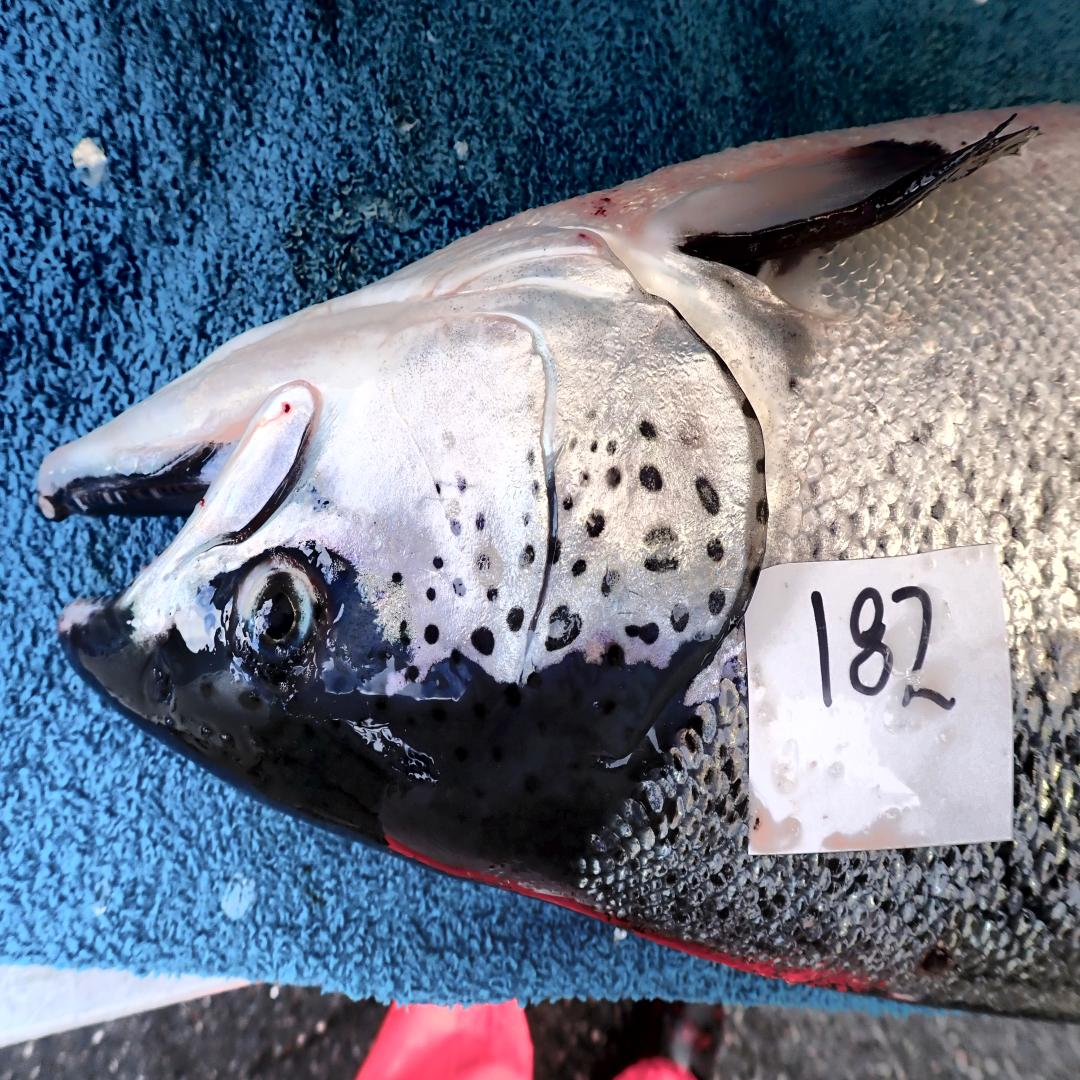spot: (546, 605, 582, 652), (696, 475, 719, 515), (624, 622, 658, 644), (470, 627, 494, 655), (644, 527, 678, 546), (639, 464, 662, 492), (643, 557, 679, 574), (671, 605, 690, 633), (600, 570, 618, 598), (709, 588, 726, 616), (506, 608, 525, 633), (604, 644, 624, 666), (707, 537, 724, 562), (586, 515, 605, 537), (741, 396, 757, 421), (397, 617, 410, 646), (756, 498, 769, 525), (605, 467, 622, 487), (519, 547, 535, 567), (424, 624, 439, 644), (478, 552, 493, 572), (639, 422, 656, 439), (406, 665, 420, 683), (572, 560, 586, 577), (454, 475, 468, 492), (553, 540, 562, 565), (449, 518, 462, 534), (565, 438, 578, 454), (454, 579, 466, 596), (577, 472, 590, 487), (562, 495, 573, 512), (485, 588, 497, 603), (530, 480, 540, 498), (426, 588, 437, 602), (756, 458, 765, 475), (391, 572, 403, 584), (526, 449, 534, 467), (607, 441, 618, 454), (477, 515, 485, 532), (432, 557, 443, 568), (590, 439, 598, 452), (435, 483, 441, 498), (523, 513, 529, 526)
